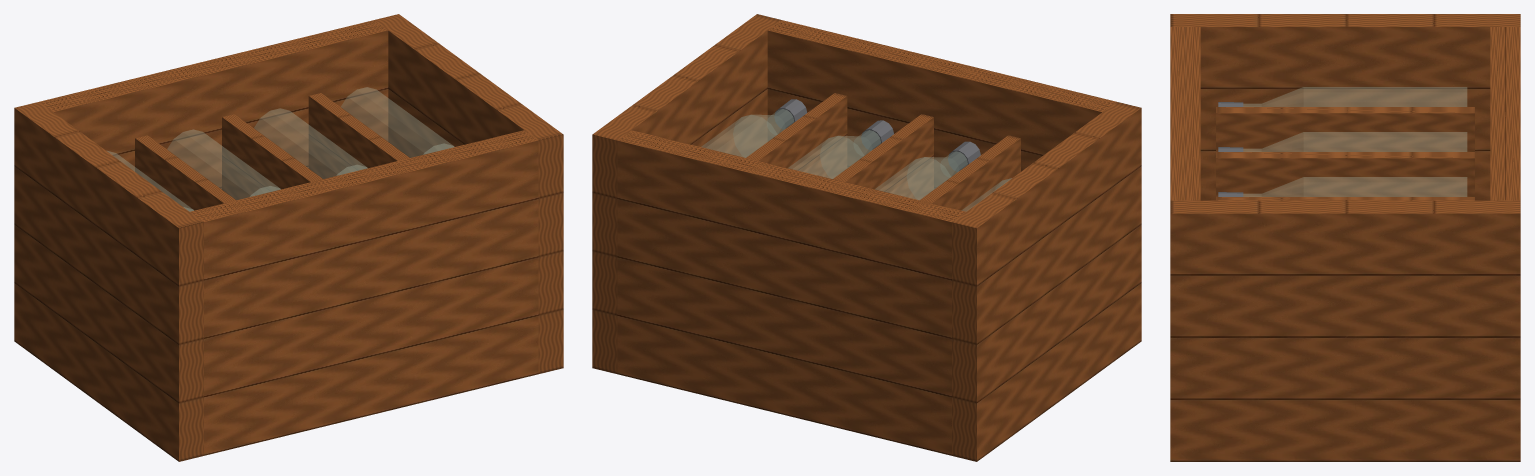
File: bottle-crate.glb
The picture shows the model from 3 angles, left to right: view 1: azimuth 30°, elevation 25°; view 2: azimuth 150°, elevation 25°; view 3: azimuth 270°, elevation 25°; orthographic projection. The views are drawn at different scales.
Visible parts, largest first — view 1: bottle-crate-timber, bottle-crate-glass; view 2: bottle-crate-timber, bottle-crate-glass, bottle-crate-dark; view 3: bottle-crate-timber, bottle-crate-glass, bottle-crate-dark.
Part boxes in pixels (bbox=[...]): bottle-crate-timber: bbox=[14, 14, 563, 461]; bottle-crate-glass: bbox=[107, 87, 454, 211]; bottle-crate-timber: bbox=[592, 14, 1141, 461]; bottle-crate-glass: bbox=[702, 109, 1011, 211]; bottle-crate-dark: bbox=[774, 99, 980, 171]; bottle-crate-timber: bbox=[1170, 14, 1520, 461]; bottle-crate-glass: bbox=[1243, 87, 1466, 196]; bottle-crate-dark: bbox=[1218, 102, 1243, 196].
Size of the model in its own units: 0.62 by 0.36 by 0.46.
3 materials, 1 textured.
